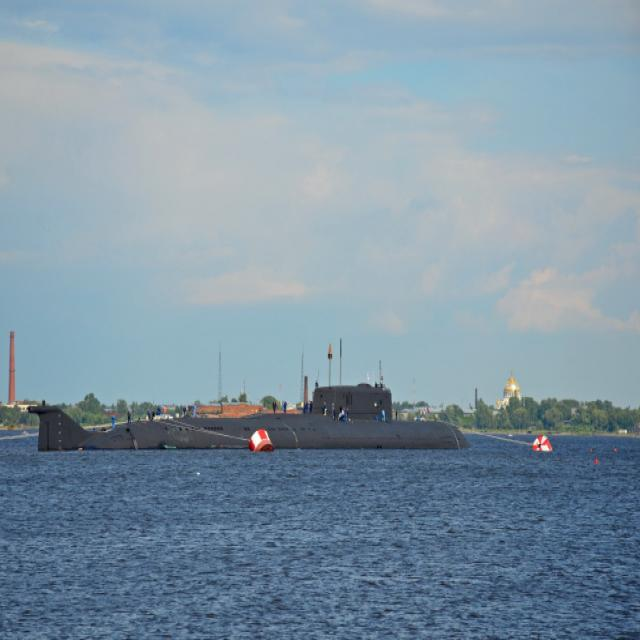submarine: (35, 356, 503, 452)
